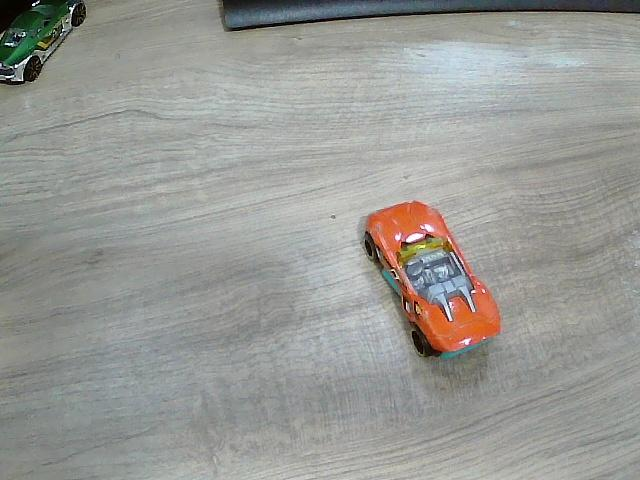Carro: (362, 202, 502, 358), (0, 0, 86, 85)
